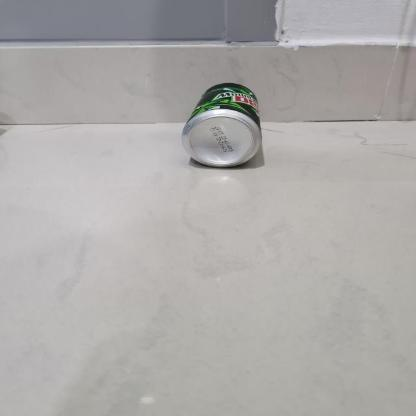Can: (176, 81, 266, 168)
